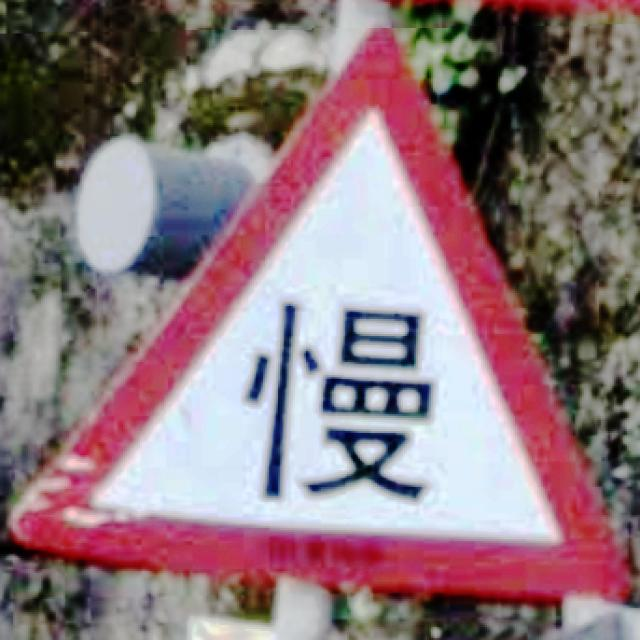slow: (11, 26, 634, 602)
